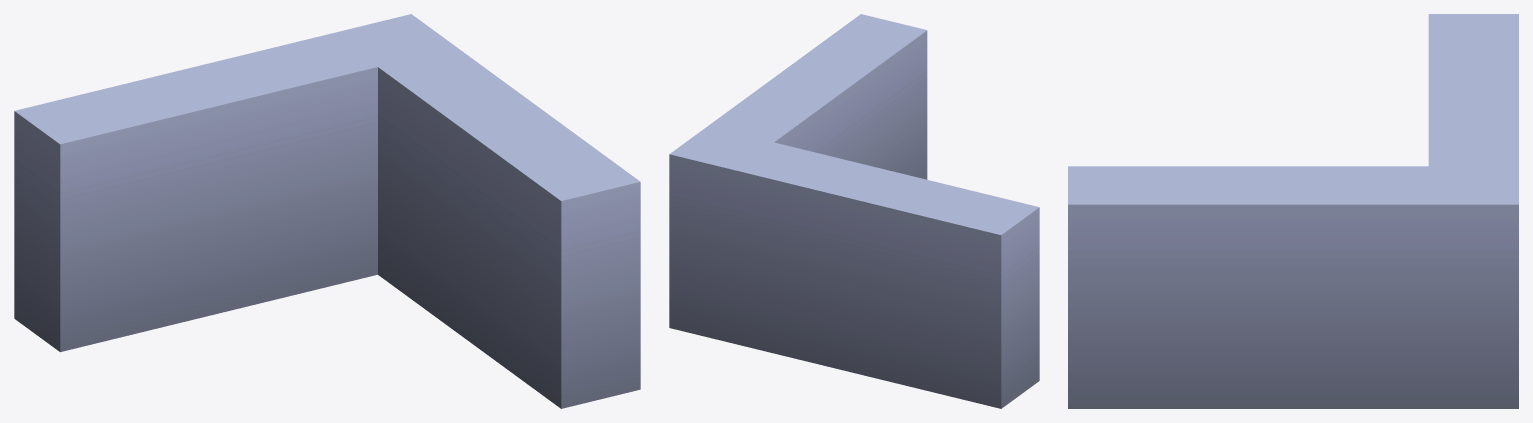
Rendered from kenney-prototype-wall-corner-low.glb.
3 renders of one model, left to right at view 1: azimuth 30°, elevation 25°; view 2: azimuth 150°, elevation 25°; view 3: azimuth 270°, elevation 25°, orthographic. The views are drawn at different scales.
Parts seen in each view (by area): view 1: wall-corner-low; view 2: wall-corner-low; view 3: wall-corner-low.
Boxes of the visible parts, x1=… form: wall-corner-low: x1=14, y1=14, x2=640, y2=408; wall-corner-low: x1=669, y1=14, x2=1039, y2=408; wall-corner-low: x1=1068, y1=14, x2=1518, y2=408.
Size of the model in its own units: 1 by 0.5001 by 1.
1 material, 1 textured.
